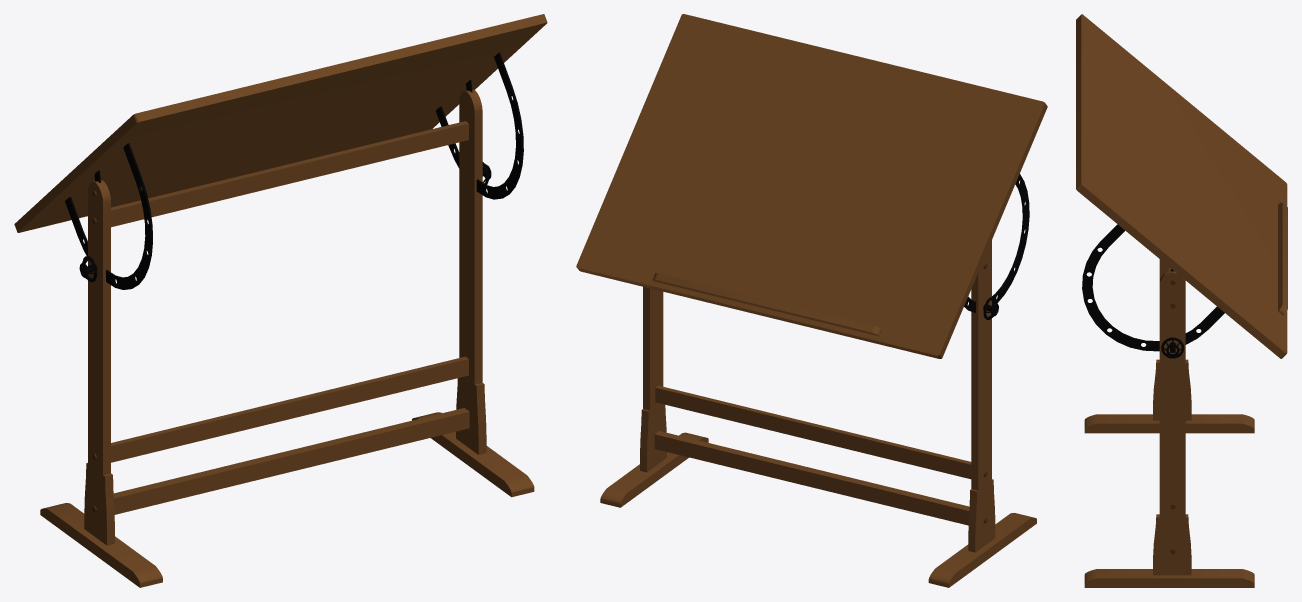
File: escritorio_de_arquitecto.fbx
3 renders of one model, left to right at view 1: azimuth 30°, elevation 25°; view 2: azimuth 150°, elevation 25°; view 3: azimuth 270°, elevation 25°, orthographic. The views are drawn at different scales.
Parts seen in each view (by area): view 1: Cube.007; view 2: Cube.007; view 3: Cube.007.
Boxes of the visible parts, box(x1,y1,x2,y2) form: Cube.007: box(14, 14, 547, 587); Cube.007: box(576, 14, 1047, 587); Cube.007: box(1076, 14, 1287, 587).
Size of the model in its own units: 448 by 497 by 234.
